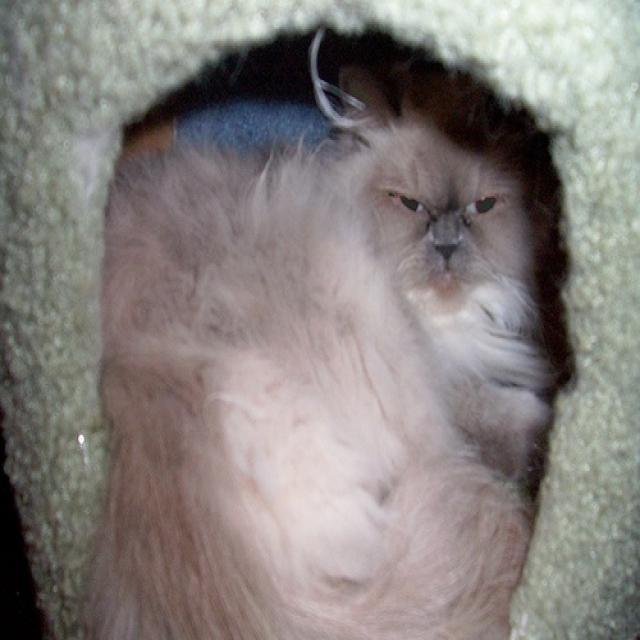cat: (109, 111, 530, 638)
